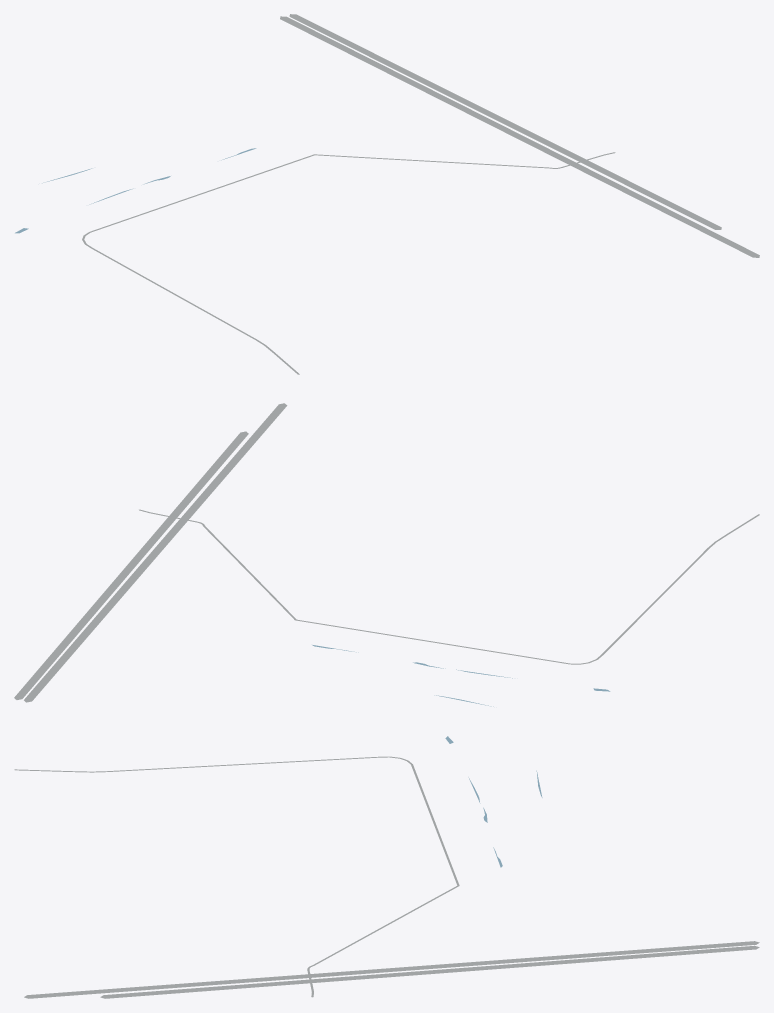
The model's file is -28_19-known-coarse.glb.
3 views of the same model, one above another, from view 1: azimuth 30°, elevation 25°; view 2: azimuth 150°, elevation 25°; view 3: azimuth 270°, elevation 25° (orthographic).
Size of the model in its own units: 835 by 0.1 by 1002.
